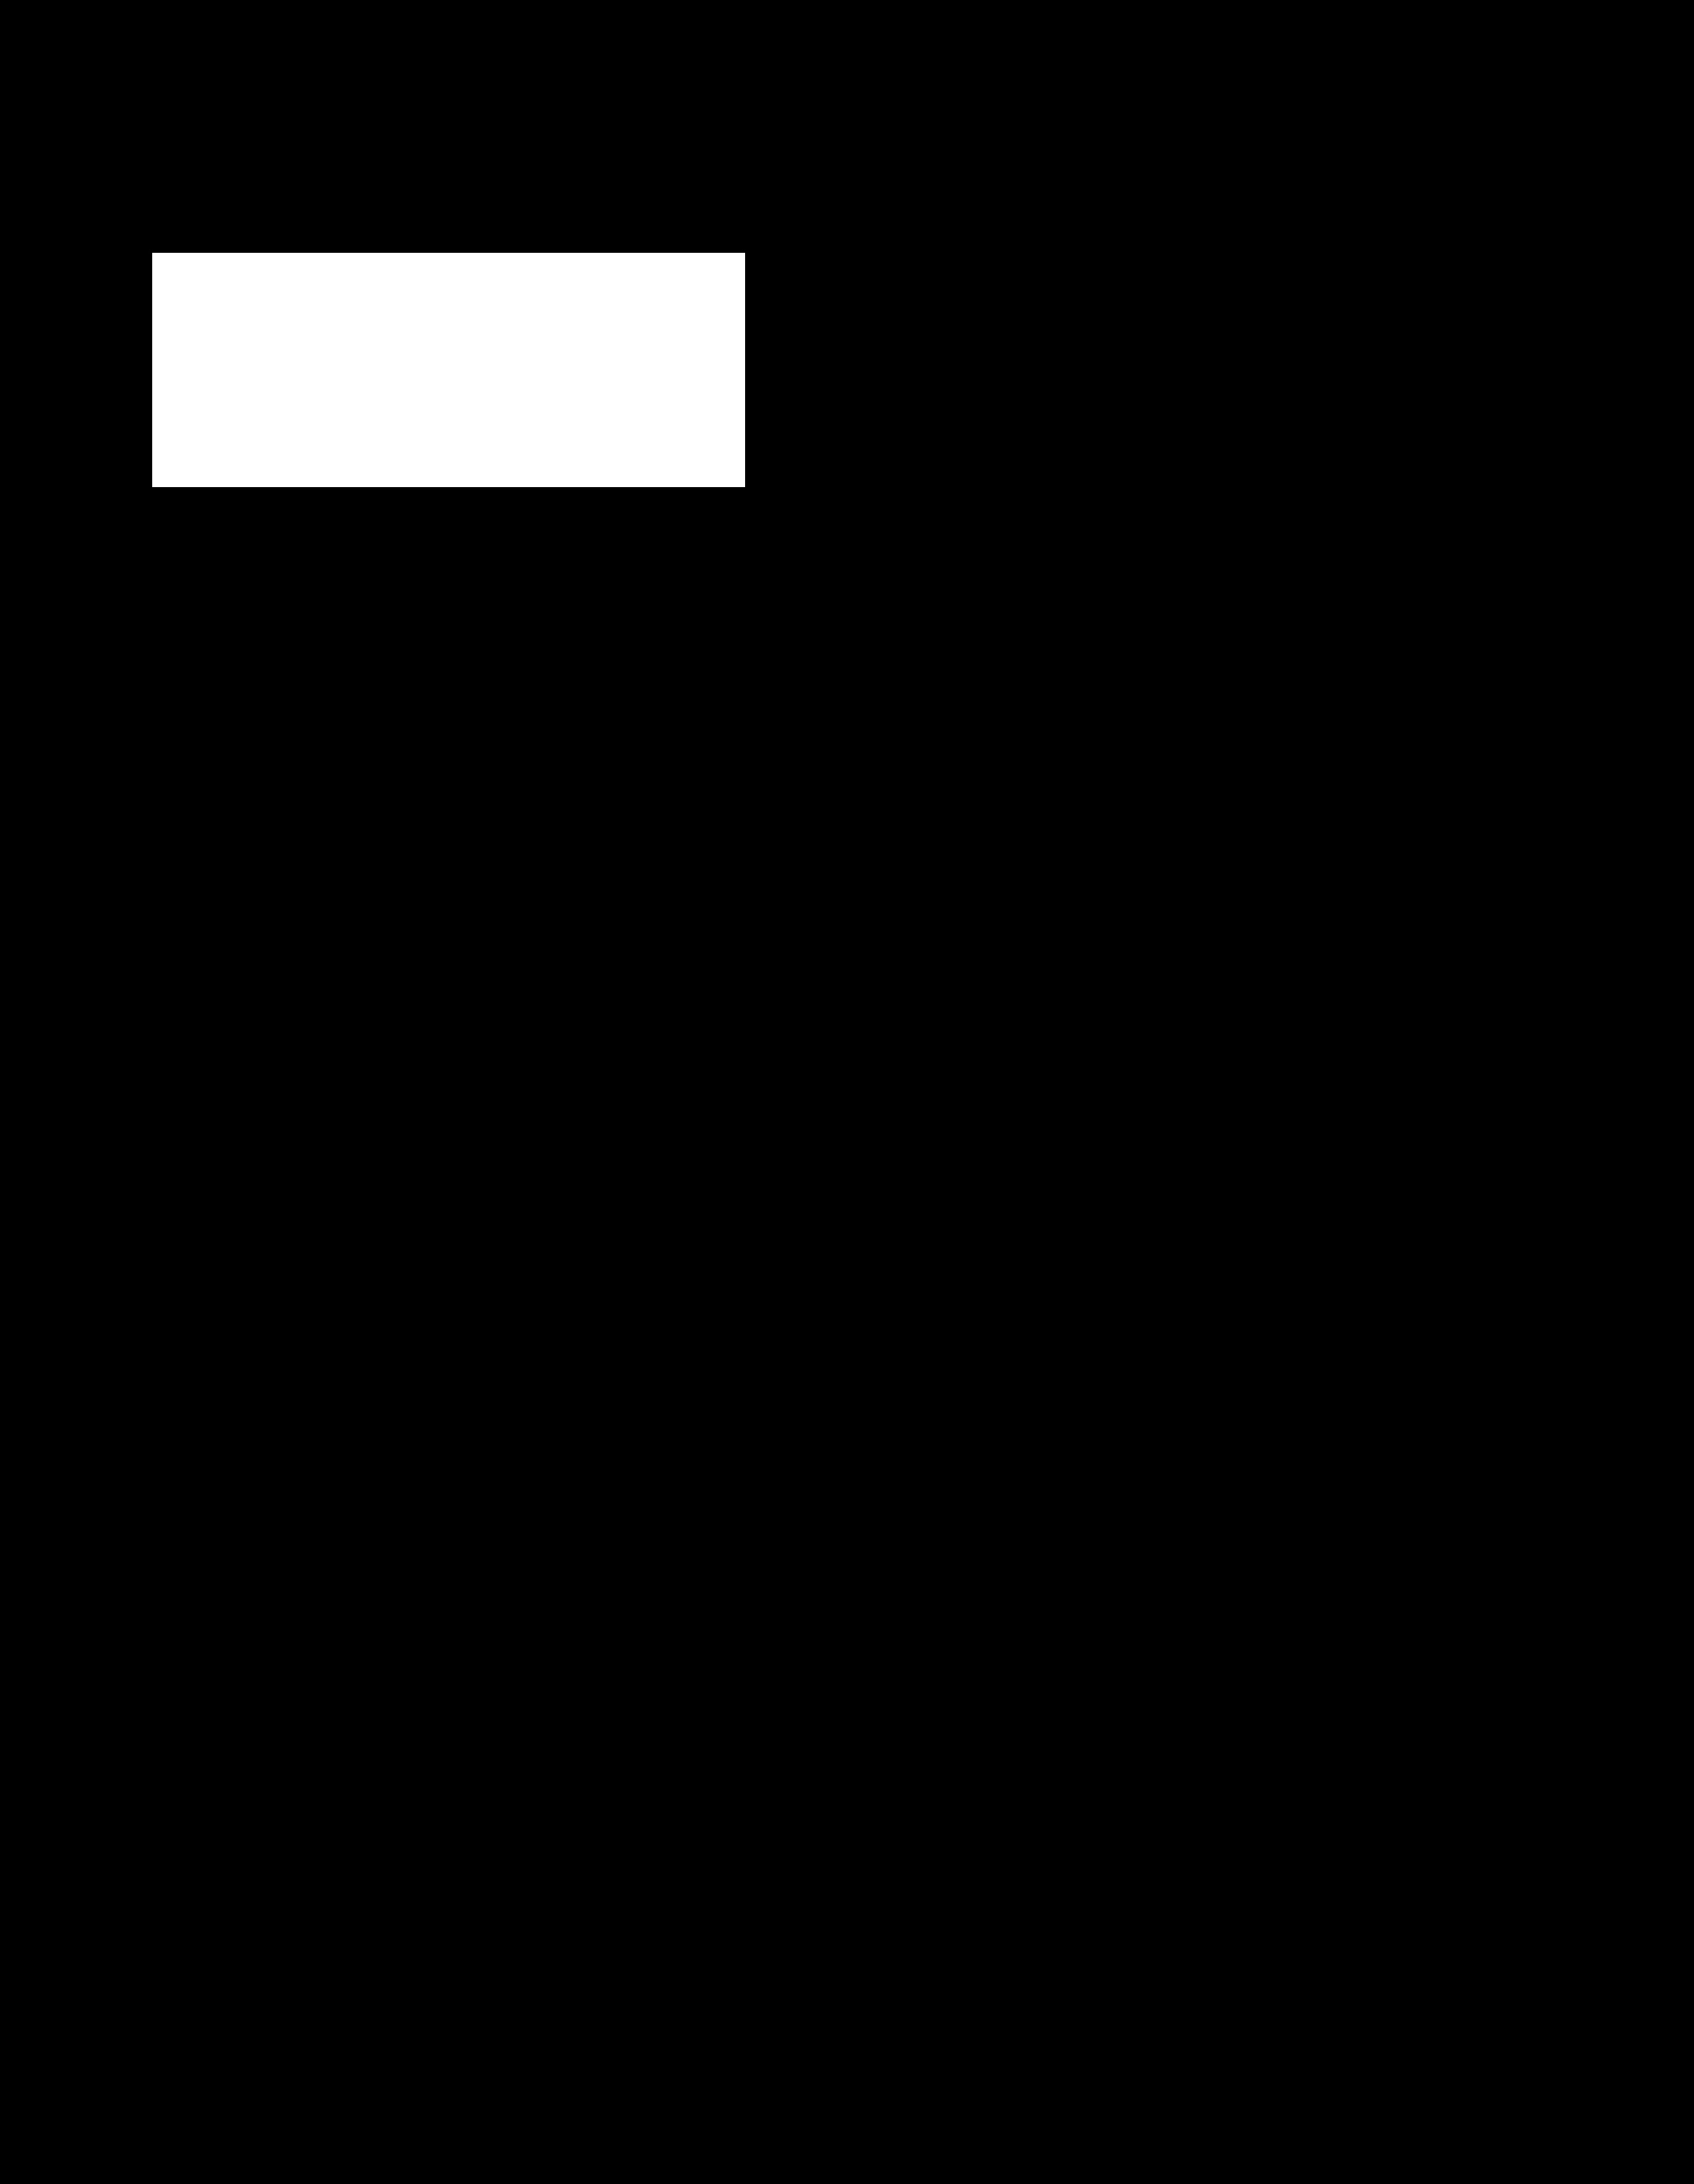table: (152, 253, 744, 486)
